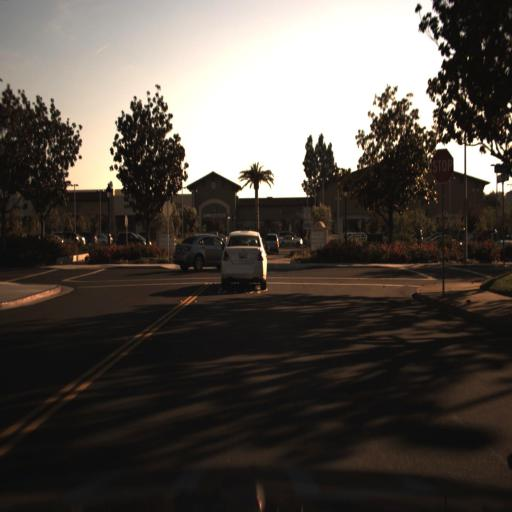car: (218, 225, 271, 292), (174, 232, 228, 275), (109, 232, 146, 250), (276, 230, 304, 250), (277, 232, 305, 250), (262, 230, 281, 256)
